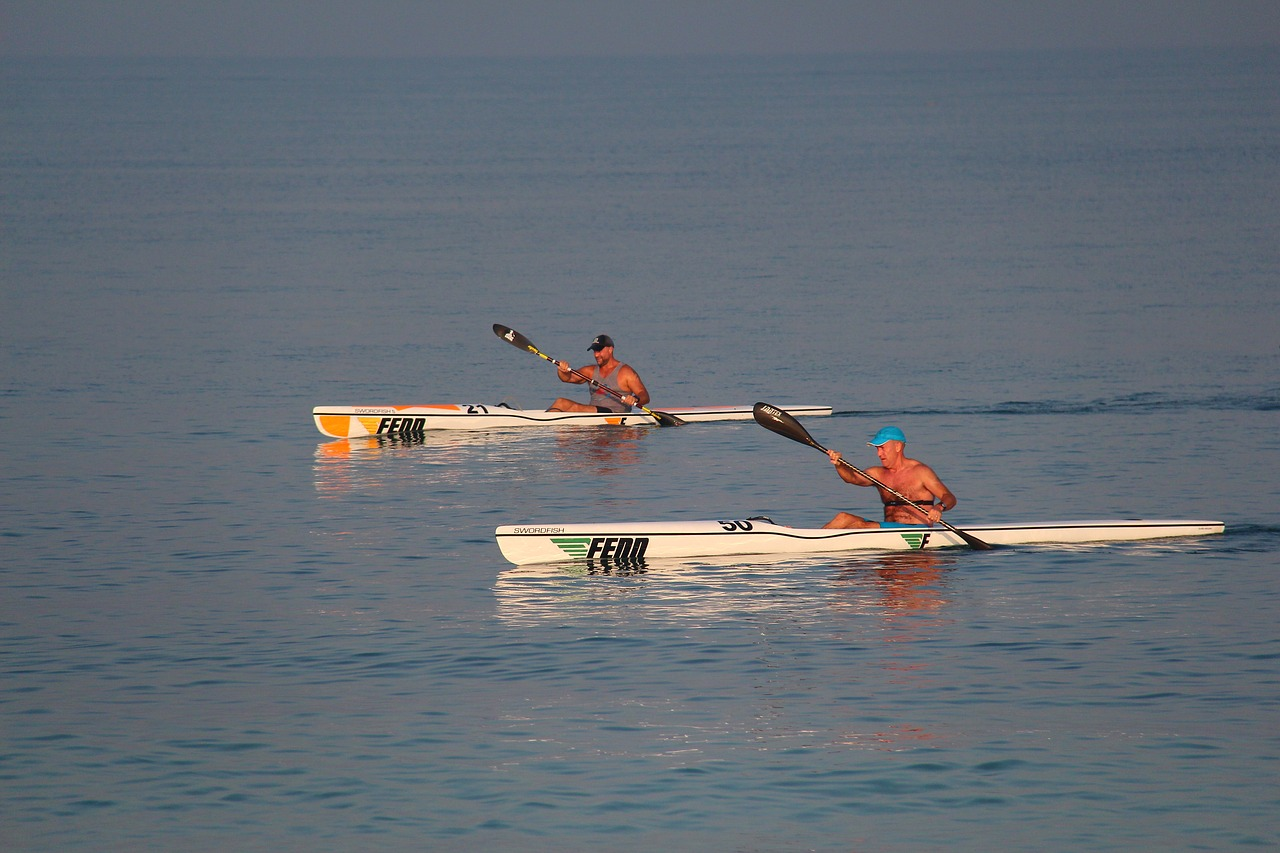kayak: (488, 512, 1232, 565), (305, 395, 839, 441)
